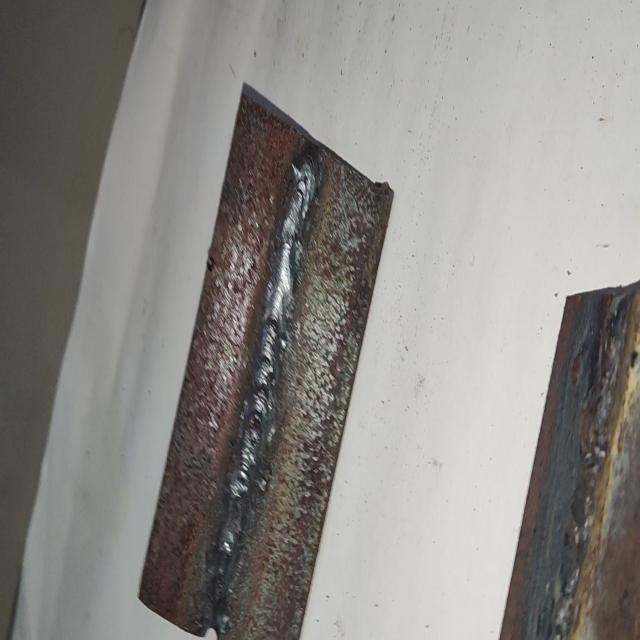Good Weld: (199, 132, 334, 630)
